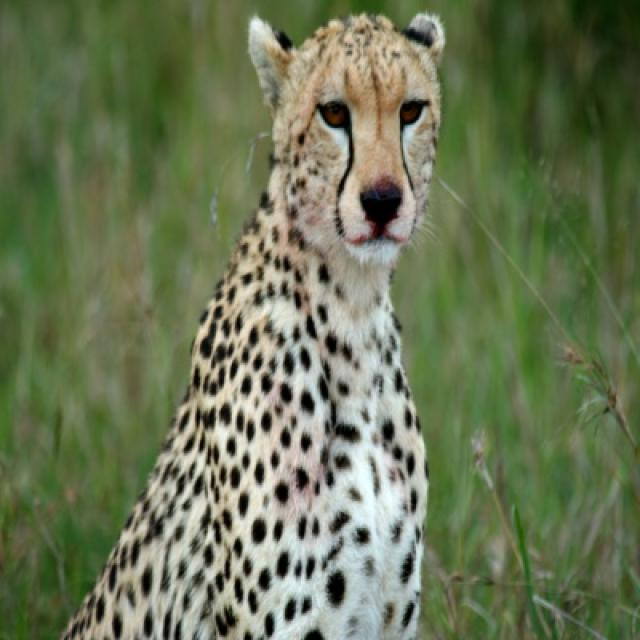Cheetah: (56, 13, 446, 638)
